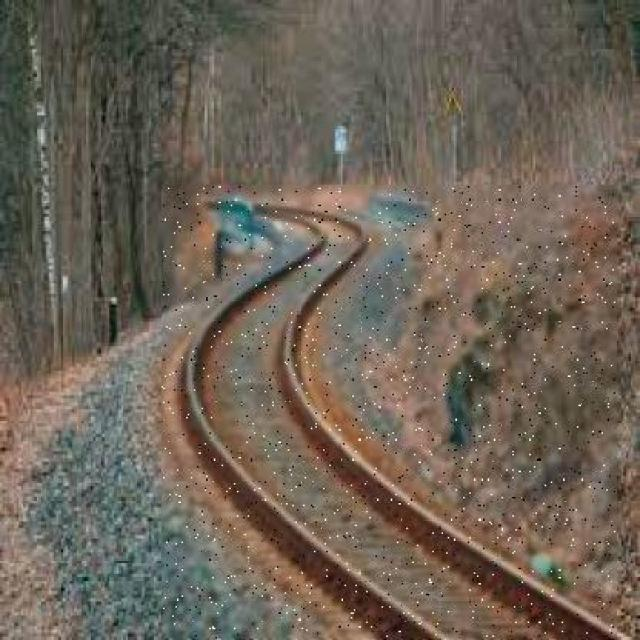rail: (163, 187, 616, 639)
